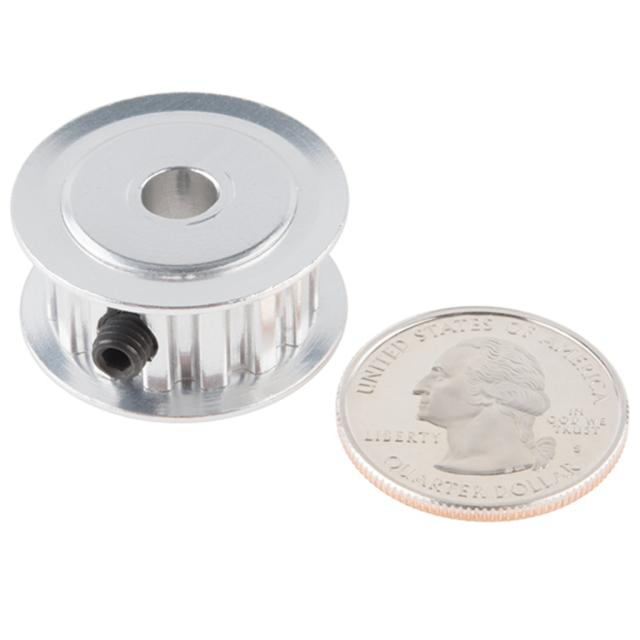Coin: (336, 306, 629, 523)
